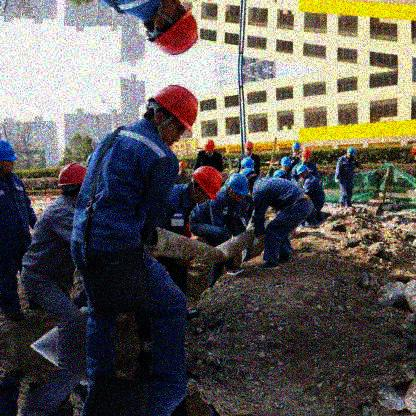helmet: (160, 167, 225, 319), (144, 86, 200, 150), (138, 1, 199, 56), (186, 166, 224, 206), (56, 163, 90, 202), (225, 174, 249, 204), (1, 139, 19, 174), (201, 138, 215, 157), (296, 164, 309, 179), (280, 157, 292, 171), (301, 148, 312, 163), (291, 142, 301, 158), (244, 142, 254, 155), (179, 161, 188, 174), (347, 146, 355, 160)
